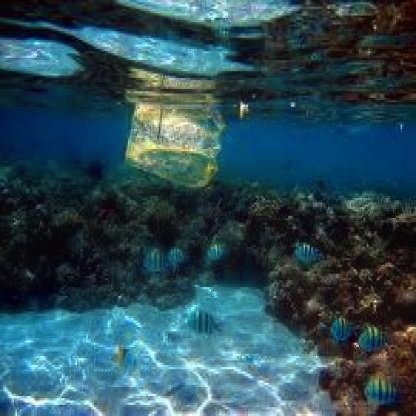pbag: (122, 102, 222, 192)
